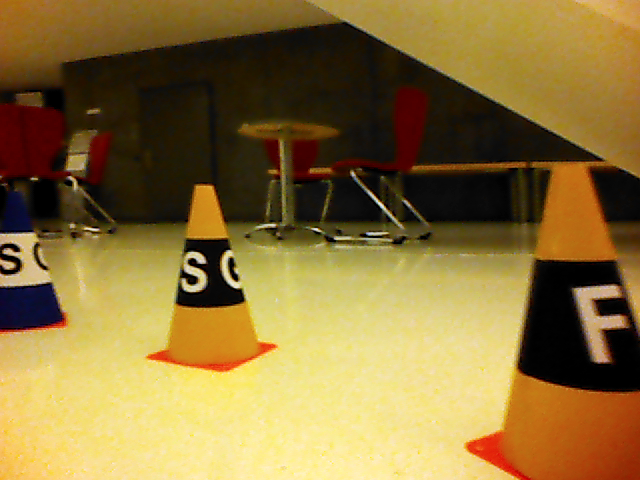bluecone: (1, 189, 62, 327)
yellowcone: (502, 163, 640, 479), (168, 181, 260, 362)
